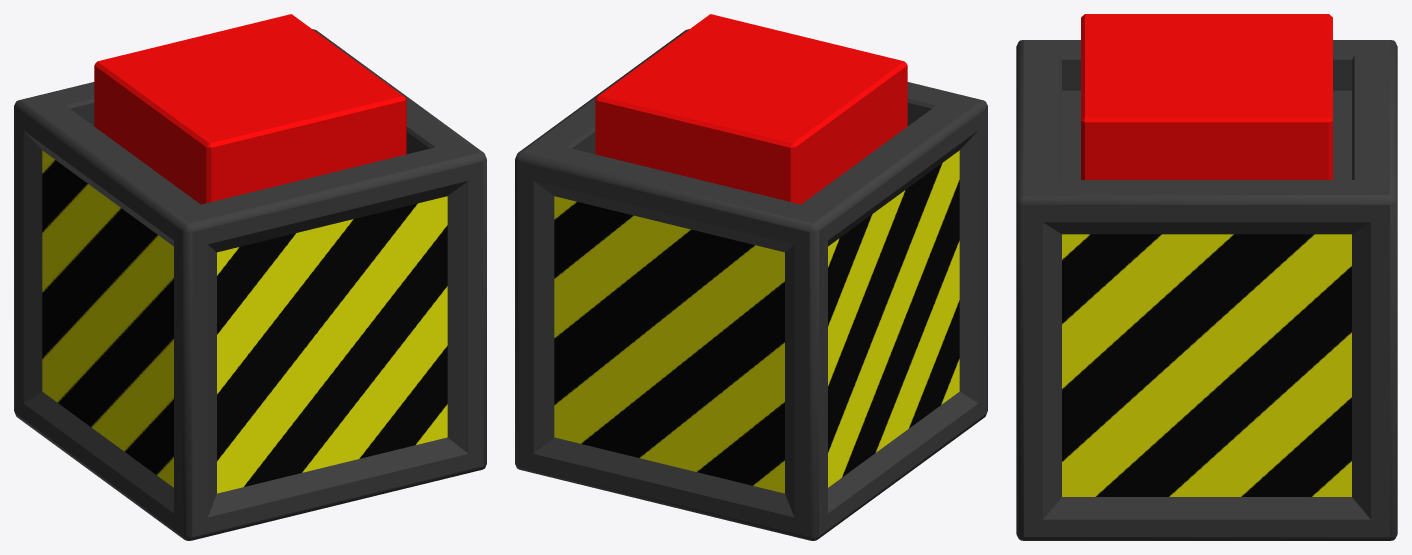
File: Basic_Buton.FBX
The picture shows the model from 3 angles, left to right: view 1: azimuth 30°, elevation 25°; view 2: azimuth 150°, elevation 25°; view 3: azimuth 270°, elevation 25°; orthographic projection. The views are drawn at different scales.
Parts seen in each view (by area): view 1: Base_Boton, Boton; view 2: Base_Boton, Boton; view 3: Base_Boton, Boton.
Part boxes in pixels (x1,y1,x2,y2): Base_Boton: [14, 29, 486, 540]; Boton: [94, 14, 406, 204]; Base_Boton: [515, 29, 987, 540]; Boton: [595, 14, 907, 204]; Base_Boton: [1016, 40, 1397, 540]; Boton: [1081, 14, 1332, 179].
Bounding box in the file's own units: 100 × 115 × 100.
3 materials, 1 textured.
